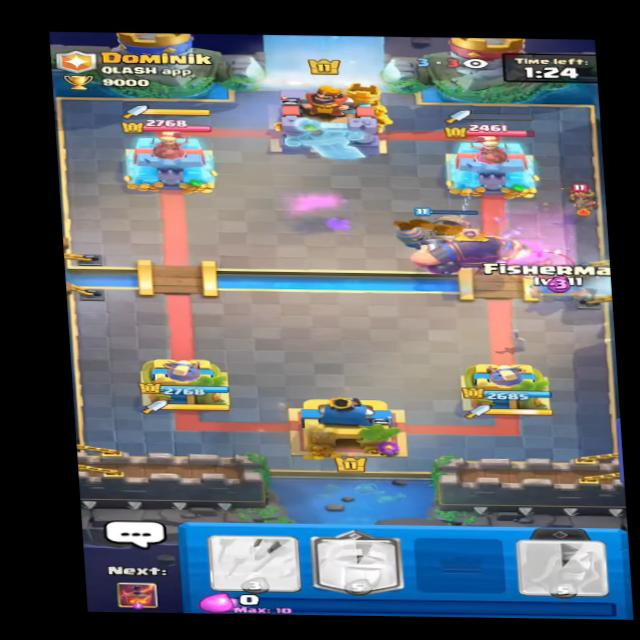Littleprince: (563, 183, 604, 218)
